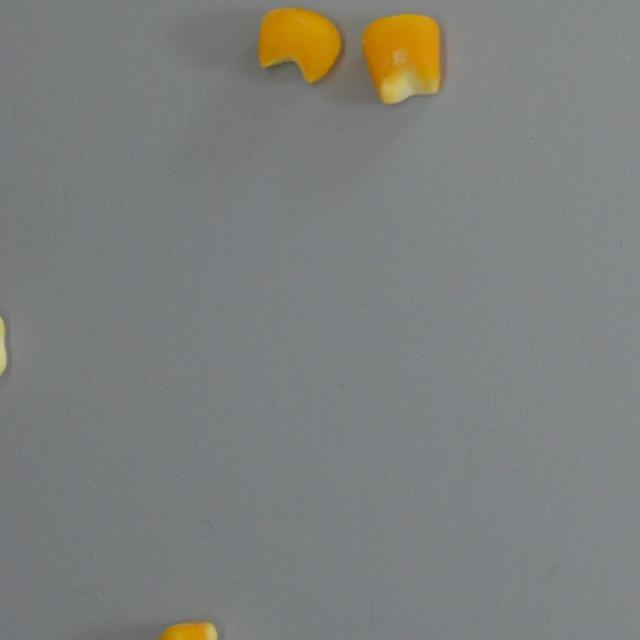no_canjicado: (257, 5, 342, 83), (156, 620, 230, 640)
pelicula: (360, 12, 441, 105)
